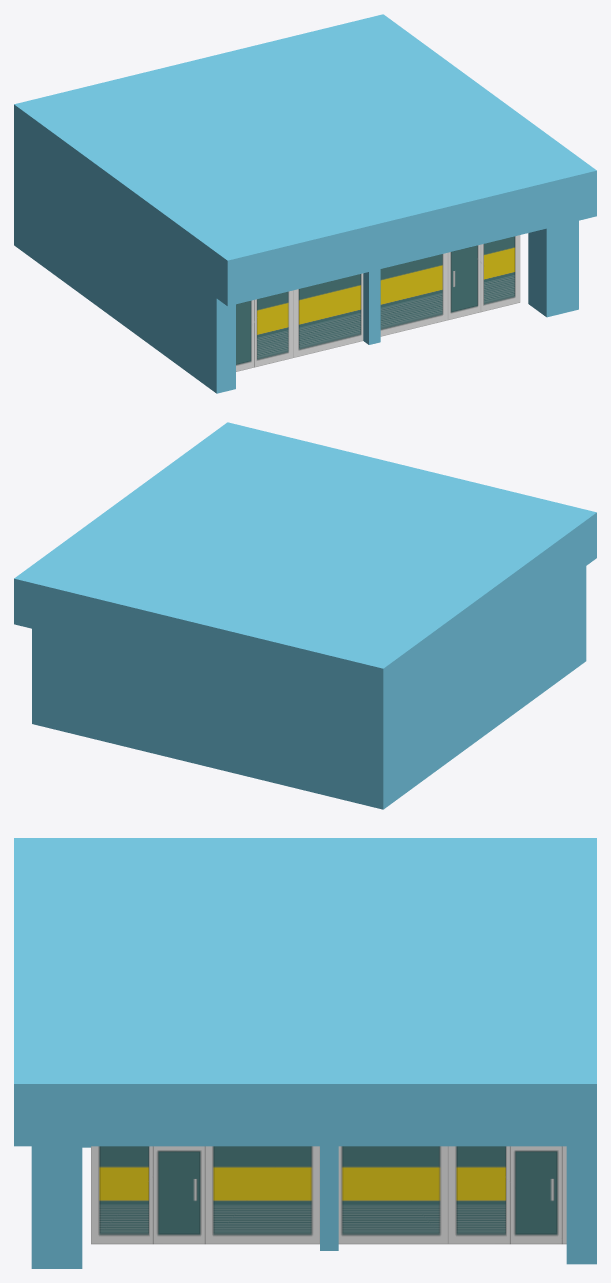
File: Town_Bld-Med_BaseC.FBX
The picture shows the model from 3 angles, top to bottom: view 1: azimuth 30°, elevation 25°; view 2: azimuth 150°, elevation 25°; view 3: azimuth 270°, elevation 25°; orthographic projection. The views are drawn at different scales.
Visible parts, largest first — view 1: Town_Bld-Med_BaseC; view 2: Town_Bld-Med_BaseC; view 3: Town_Bld-Med_BaseC.
Part boxes in pixels (left/top/right/bottom): Town_Bld-Med_BaseC: left=14, top=14, right=596, bottom=393; Town_Bld-Med_BaseC: left=14, top=422, right=596, bottom=809; Town_Bld-Med_BaseC: left=14, top=838, right=596, bottom=1268.
Size of the model in its own units: 631 by 230 by 632.
